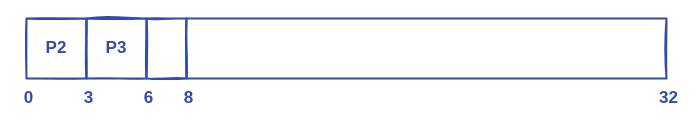
This 698x125 diagram has some shape labels left out. Here are the shapes that lost their labels. From the top down, the centre of each, then its label:
At pixel 166 48: "P4".
At pixel 426 48: "P1".
